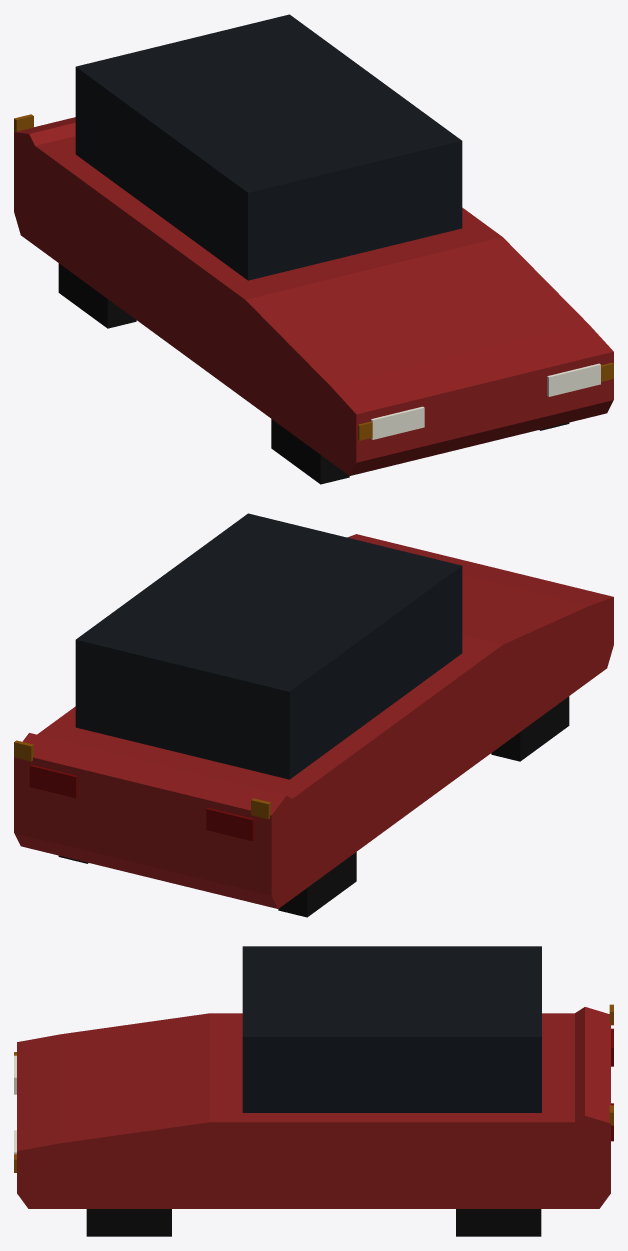
3 renders of one model, top to bottom at view 1: azimuth 30°, elevation 25°; view 2: azimuth 150°, elevation 25°; view 3: azimuth 270°, elevation 25°, orthographic. The views are drawn at different scales.
Visible parts, largest first — view 1: shell, cabin, wheels, headlight_L, headlight_R; view 2: shell, cabin, wheels, taillight_L, taillight_R; view 3: shell, cabin, wheels.
Boxes of the visible parts, box(x1,y1,x2,y2) form: shell: box(14, 117, 613, 475); cabin: box(75, 14, 462, 280); wheels: box(58, 263, 569, 484); headlight_L: box(547, 363, 600, 396); headlight_R: box(371, 406, 424, 439); shell: box(14, 534, 613, 908); cabin: box(75, 513, 462, 779); wheels: box(58, 696, 569, 917); taillight_L: box(29, 764, 77, 798); taillight_R: box(206, 808, 254, 841); shell: box(17, 1007, 610, 1208); cabin: box(242, 946, 541, 1112); wheels: box(86, 1209, 541, 1236).
Bounding box in the file's own units: 1.78 × 1.46 × 4.14.
